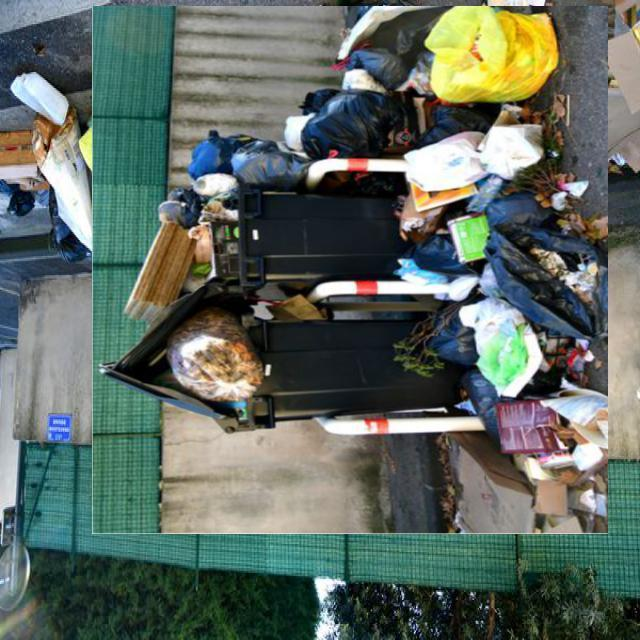Trashbag: (301, 82, 416, 169), (185, 120, 311, 194), (454, 366, 521, 441), (427, 307, 484, 379), (482, 190, 556, 236), (407, 233, 479, 280)
